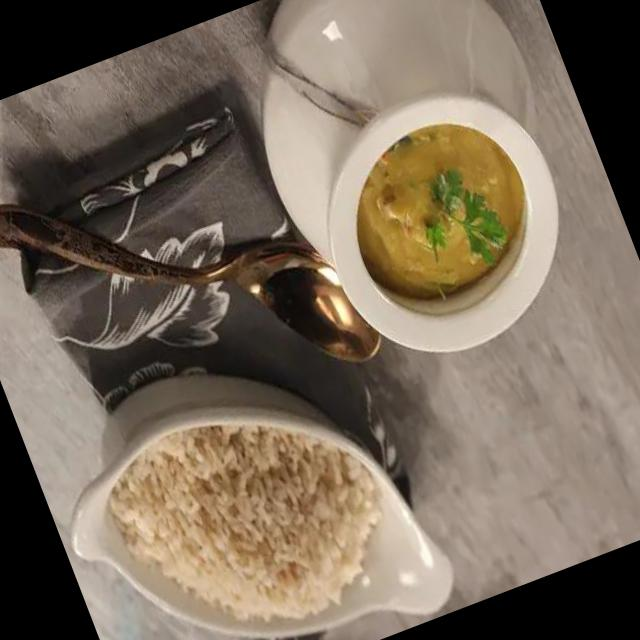dal: (314, 85, 580, 359)
rice: (94, 361, 424, 640)
